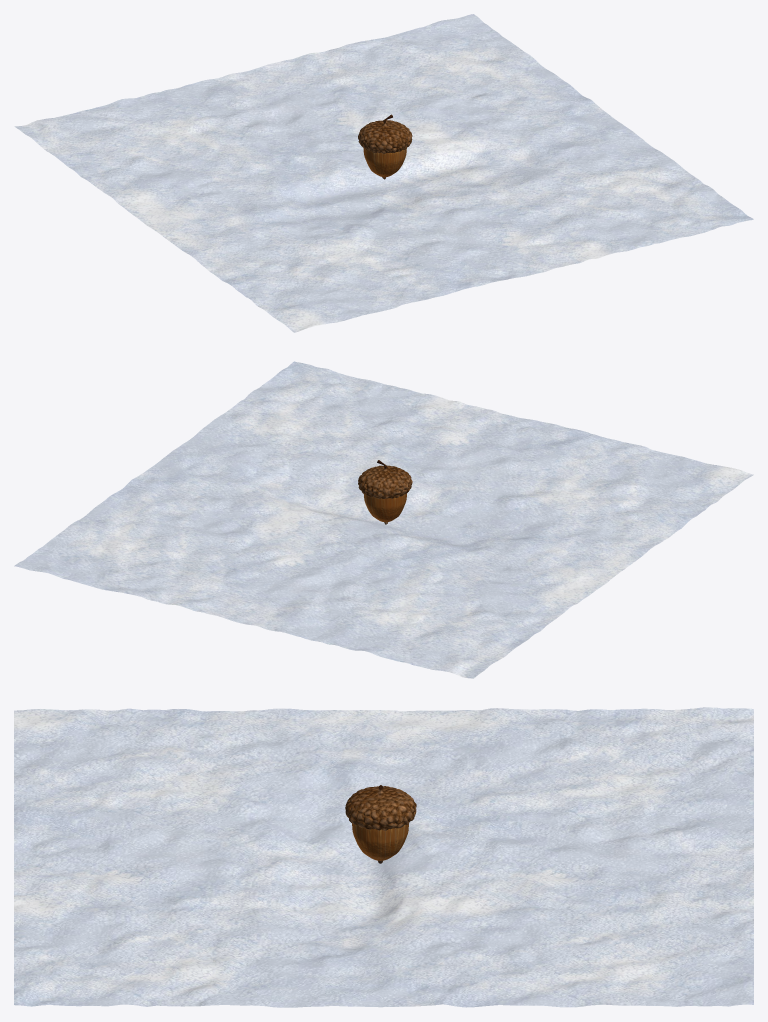
File: ice_age_nut.glb
3 views of the same model, one above another, from view 1: azimuth 30°, elevation 25°; view 2: azimuth 150°, elevation 25°; view 3: azimuth 270°, elevation 25° (orthographic). The views are drawn at different scales.
Visible parts, largest first — view 1: FLOOR_Mat_0, HAT, body; view 2: FLOOR_Mat_0, HAT, body; view 3: FLOOR_Mat_0, HAT, body.
Part boxes in pixels (x1,y1,x2,y2): FLOOR_Mat_0: (14, 14, 753, 332); HAT: (358, 114, 412, 153); body: (363, 147, 406, 179); FLOOR_Mat_0: (14, 361, 753, 678); HAT: (358, 460, 412, 498); body: (364, 493, 406, 524); FLOOR_Mat_0: (14, 707, 753, 1007); HAT: (345, 785, 416, 830); body: (352, 823, 408, 863).
Size of the model in its own units: 6.55 by 0.9111 by 6.91.
3 materials, 3 textured.
